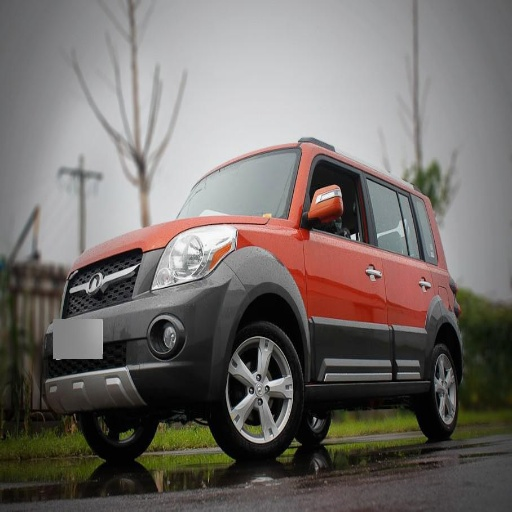front_bumper: (43, 248, 236, 409)
front_glass: (192, 150, 300, 214)
front_left_door: (301, 151, 390, 372)
